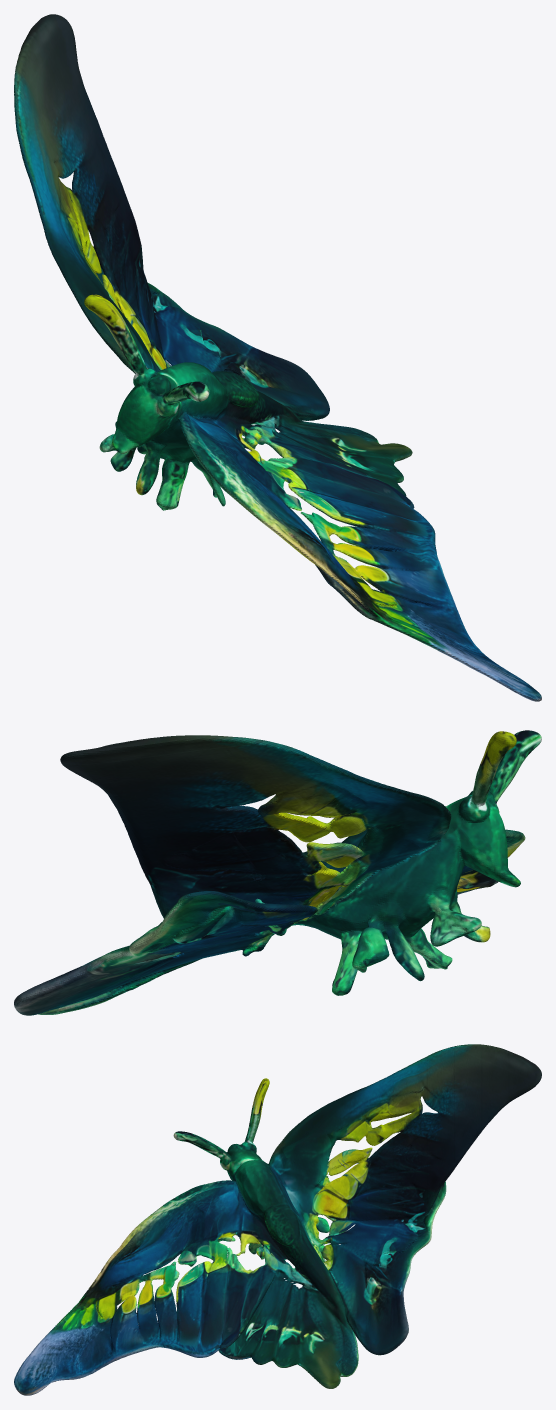
File: butterfly.glb
3 renders of one model, top to bottom at view 1: azimuth 30°, elevation 25°; view 2: azimuth 150°, elevation 25°; view 3: azimuth 270°, elevation 25°, orthographic. The views are drawn at different scales.
Parts seen in each view (by area): view 1: tripo_node_3e99ec09-a25c-4aa5-bfdc-2fc91c040873; view 2: tripo_node_3e99ec09-a25c-4aa5-bfdc-2fc91c040873; view 3: tripo_node_3e99ec09-a25c-4aa5-bfdc-2fc91c040873.
Boxes of the visible parts, x1=… form: tripo_node_3e99ec09-a25c-4aa5-bfdc-2fc91c040873: x1=14, y1=14, x2=541, y2=701; tripo_node_3e99ec09-a25c-4aa5-bfdc-2fc91c040873: x1=14, y1=730, x2=541, y2=1015; tripo_node_3e99ec09-a25c-4aa5-bfdc-2fc91c040873: x1=14, y1=1044, x2=541, y2=1395.
Size of the model in its own units: 0.5512 by 0.6161 by 1.
Materials: 1 (1 with a texture image).
